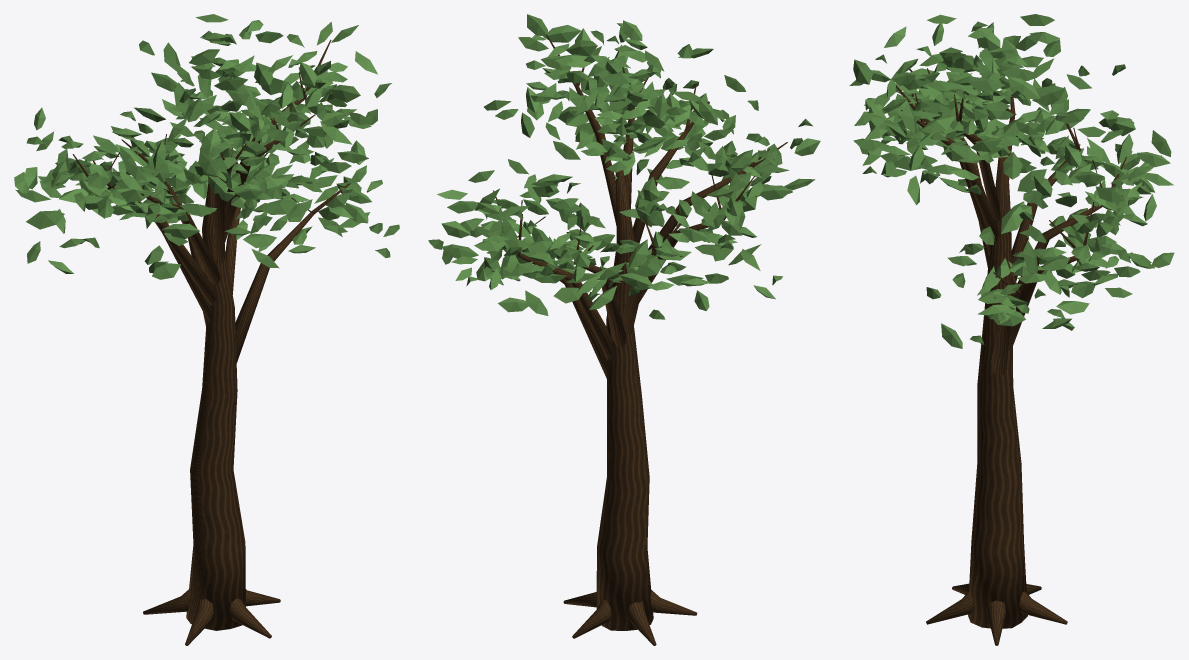
Rendered from tree.glb.
3 renders of one model, left to right at view 1: azimuth 30°, elevation 25°; view 2: azimuth 150°, elevation 25°; view 3: azimuth 270°, elevation 25°, orthographic. The views are drawn at different scales.
Parts seen in each view (by area): view 1: tree; view 2: tree; view 3: tree.
Part boxes in pixels (x1,y1,x2,y2): tree: [14, 14, 399, 645]; tree: [428, 14, 820, 645]; tree: [849, 14, 1174, 645].
Size of the model in its own units: 3.19 by 5.09 by 2.56.
2 materials, 1 textured.
